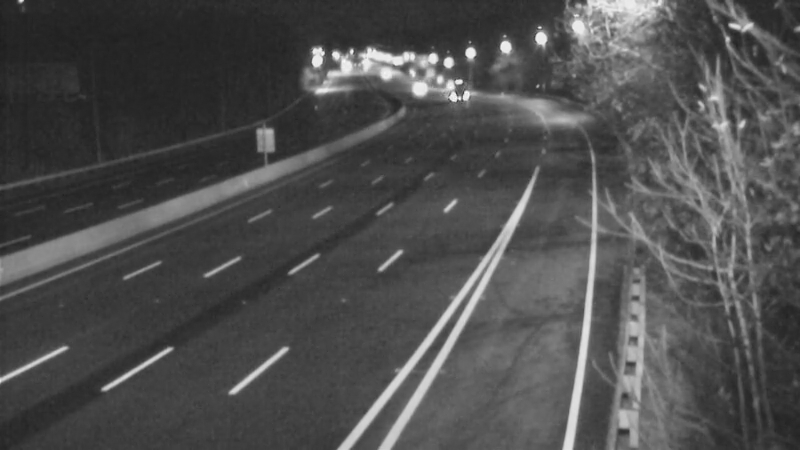vehicle: (356, 47, 406, 97), (395, 63, 445, 113), (420, 64, 470, 114)
